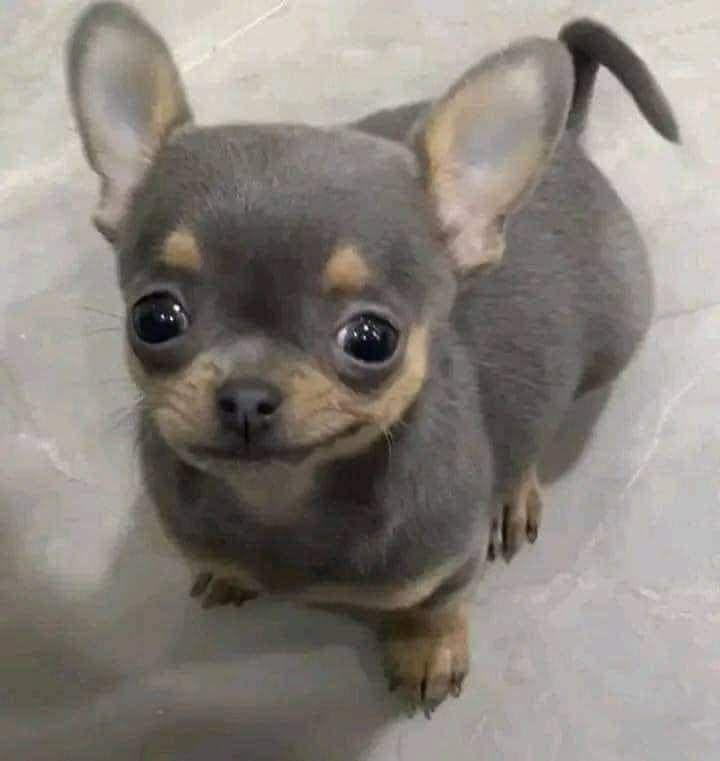puppy-dog: (60, 1, 686, 714)
